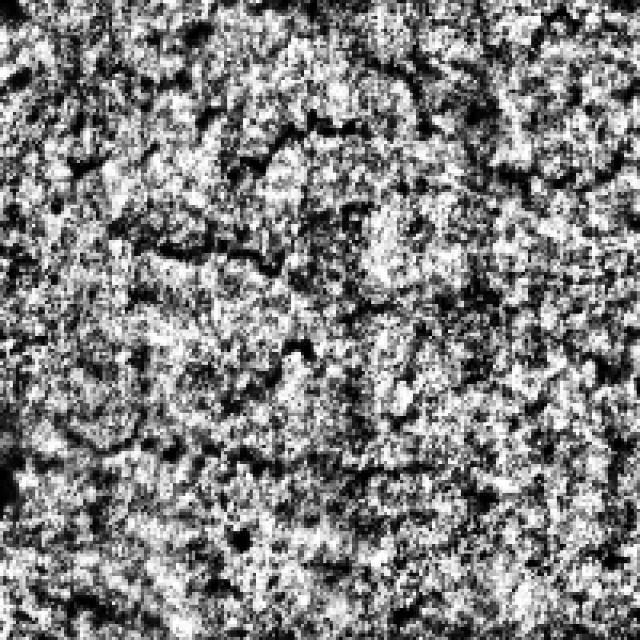Pitted_Surface: (58, 314, 636, 548), (54, 105, 637, 278)
